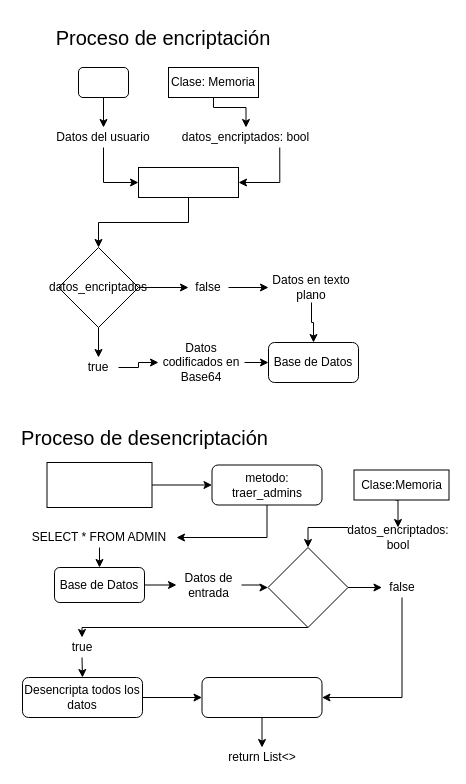
This 466x784 diagram has some shape labels left out. The box of each missing label's shape, as (x1, y1, x2, y2) in pixels:
Clase: DBLogica: (138, 166, 238, 198)
Clase:Admin (por ejemplo): (46, 462, 152, 508)
Guarda los datos en una variable List<>: (201, 676, 322, 718)
Input: (78, 66, 128, 98)
